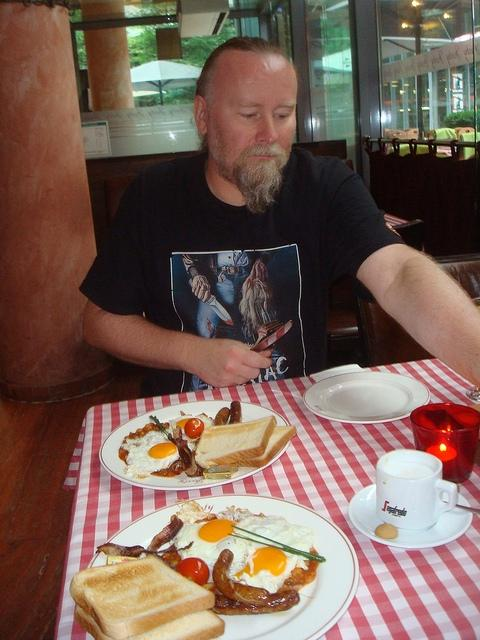tomato: (175, 558, 210, 586), (184, 418, 204, 438)
